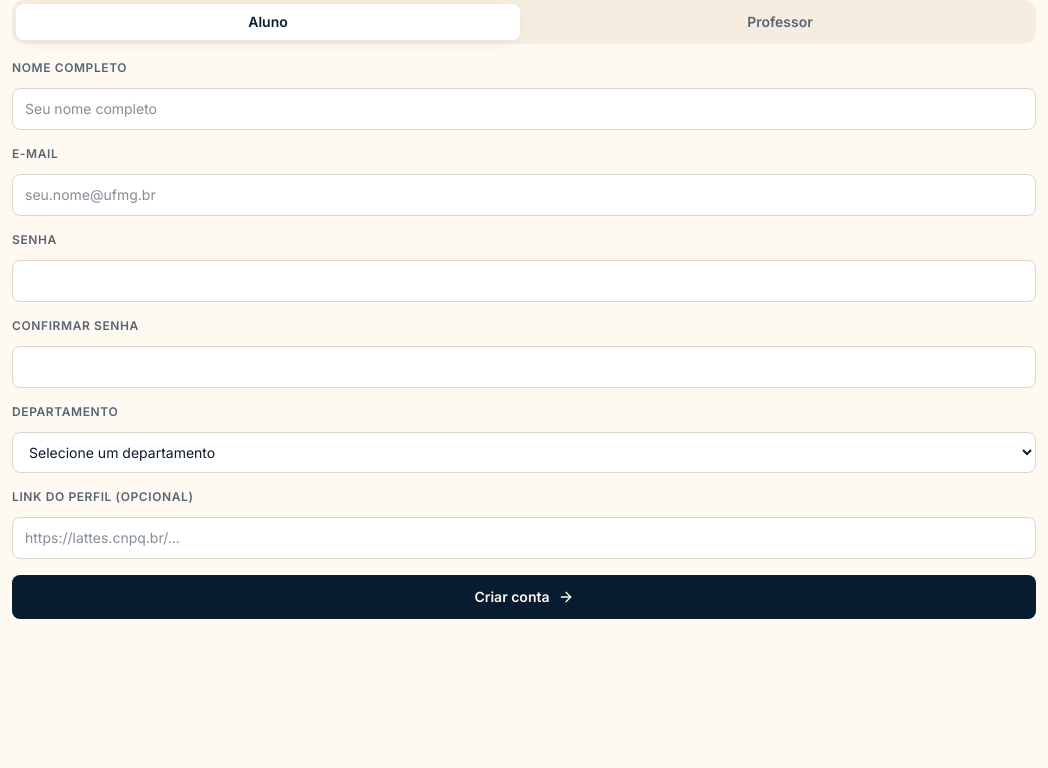
Test: RegisterForm › shows error when name is too short
This screenshot has width=1048, height=768.
Type "A" into the field labelled "Nome completo" at (524, 109), box [12,88,1036,130]
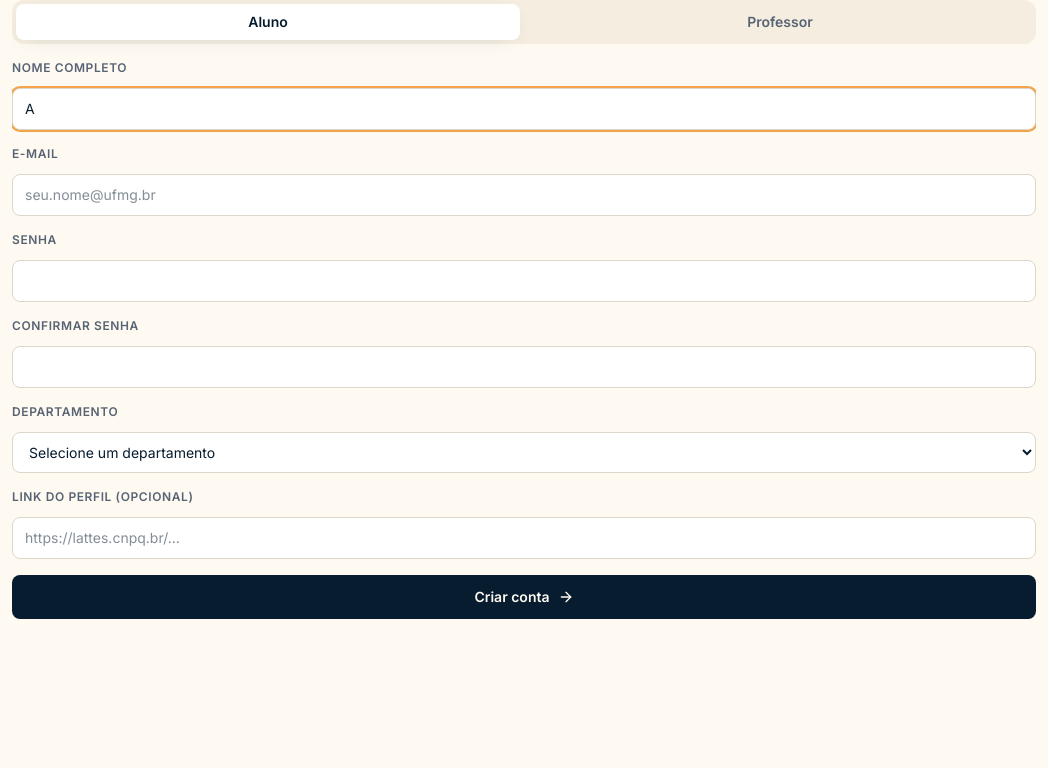
Click the button "Criar conta" at (524, 597), box [12,575,1036,619]
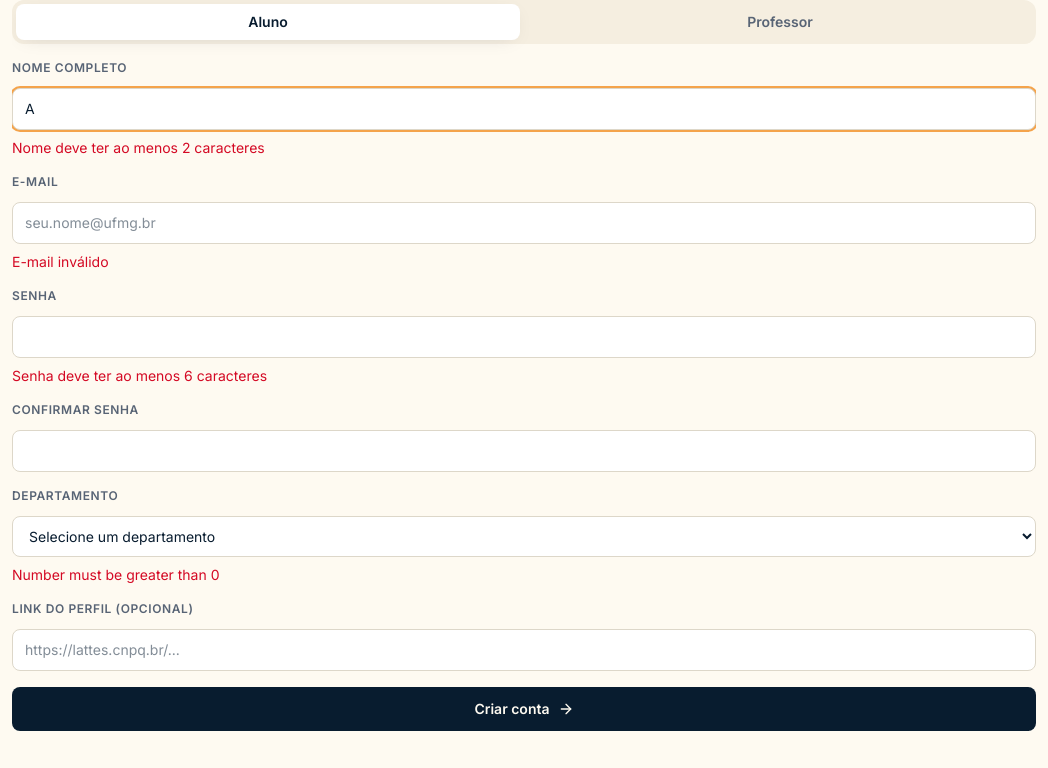
Now the text "Nome deve ter ao menos 2 caracteres" is shown, box [12,139,265,156]
